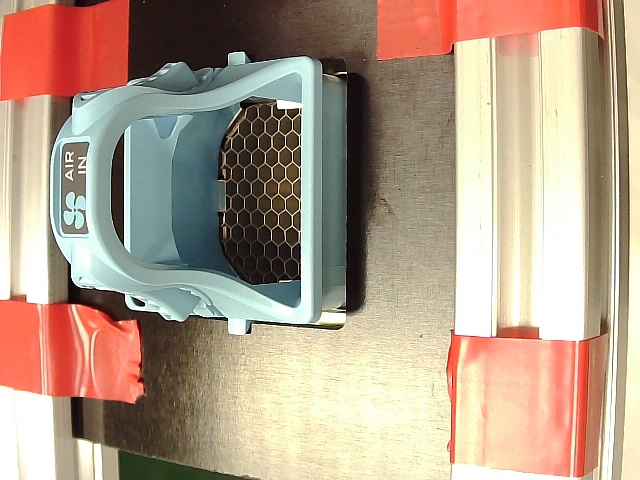2_0: (46, 27, 381, 340)
